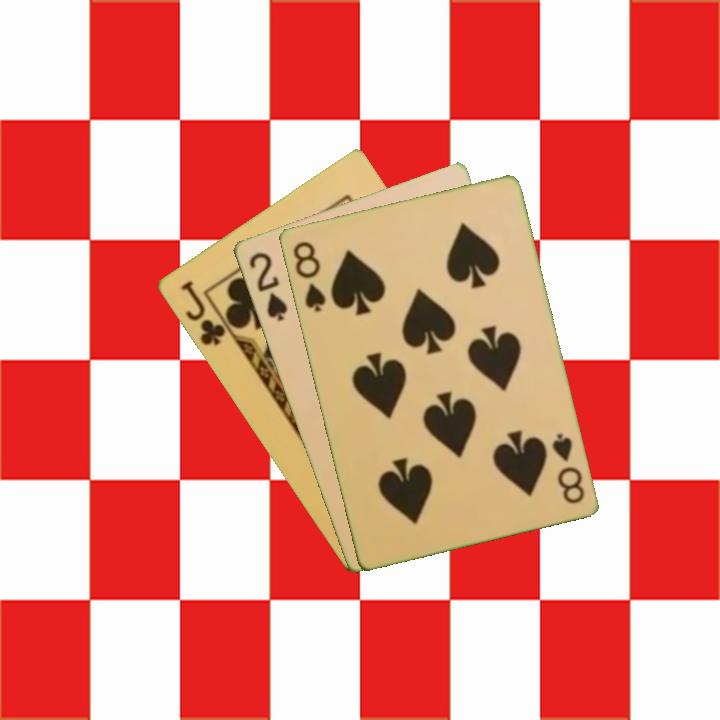2s: (245, 248, 290, 324)
8s: (289, 237, 329, 315), (547, 429, 587, 507)
Jc: (176, 277, 236, 349)
